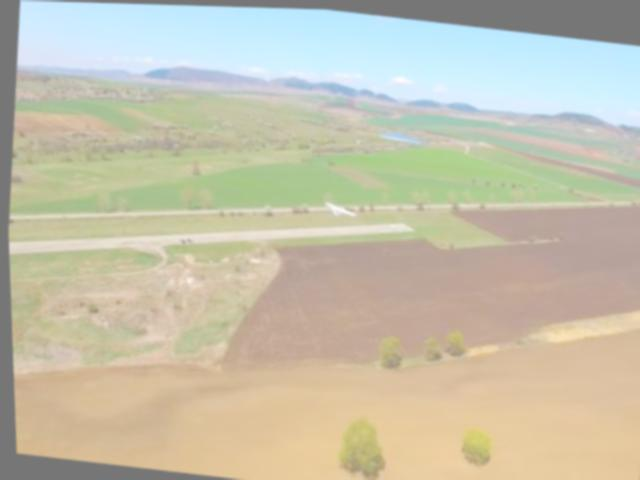uav: (317, 189, 363, 224)
